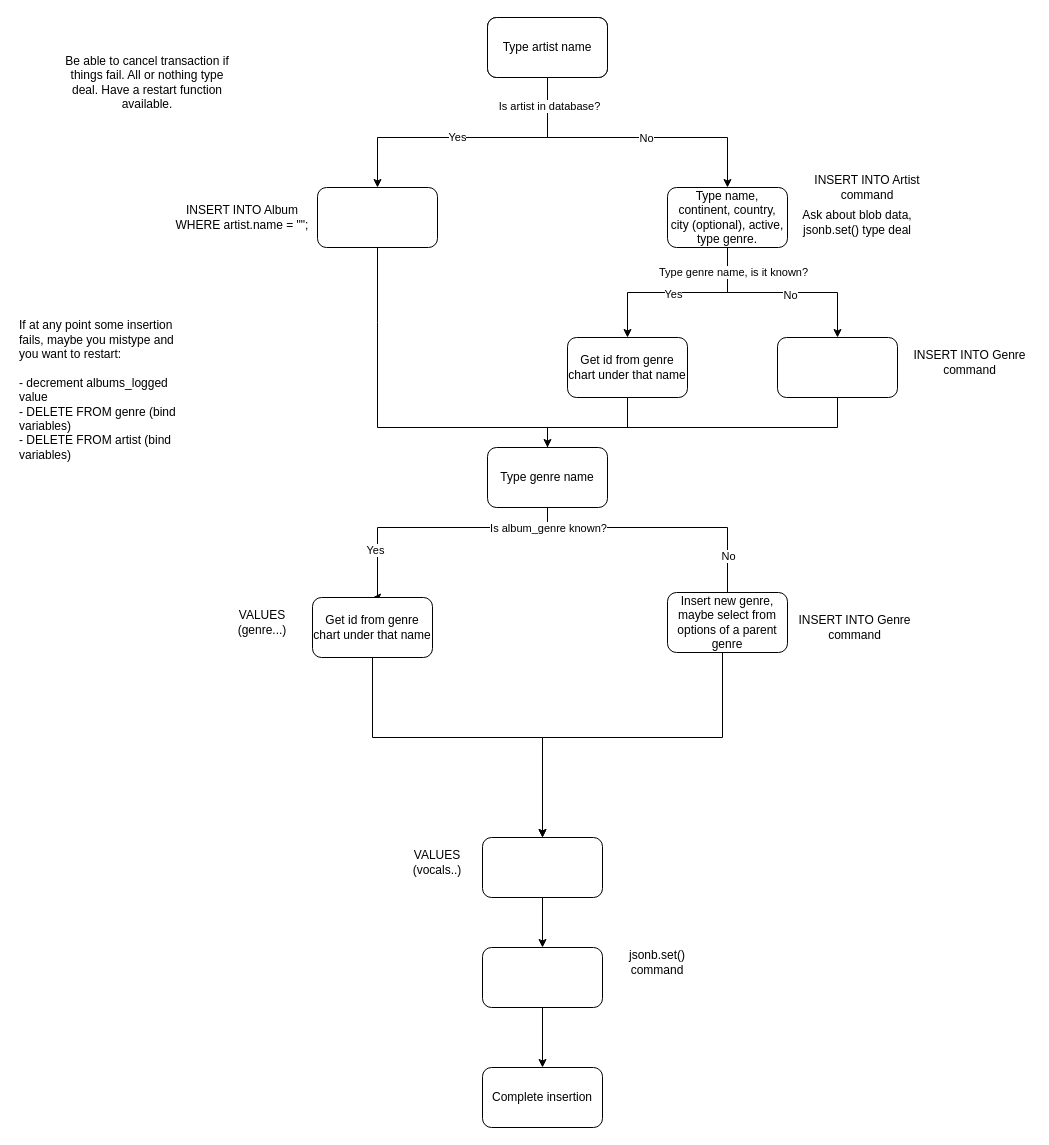
Some shapes in this 1049 by 1145 pixel diagram are drawn without their labels. Each missing label, with the centre of its shape:
Ask about rym_data, select "none" if there is no data for each field: the point at 542,977
INSERT INTO Genre command, maybe select from options of a parent genre: the point at 837,367
Type format, vocals, length, personal_rating: the point at 542,867
Type name, get id from artist chart under that name: the point at 377,217
